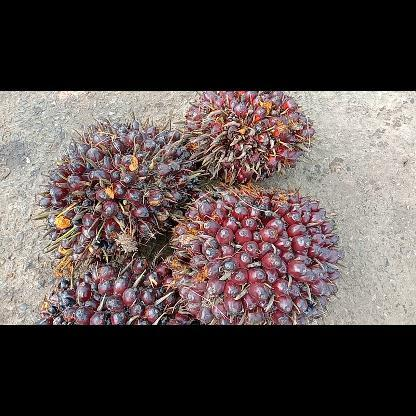Kurang masak: (37, 116, 205, 266), (177, 92, 317, 184), (30, 254, 196, 324)
TBS masak: (164, 178, 342, 324)
